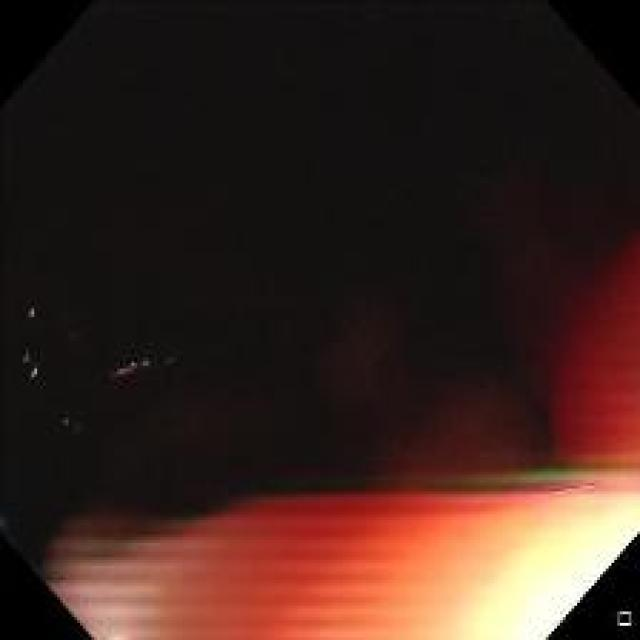color misalignment: (106, 351, 181, 381), (18, 344, 40, 382), (19, 302, 45, 326)
contrast: (1, 2, 632, 486), (2, 485, 229, 566)
saturation: (328, 491, 636, 636)
